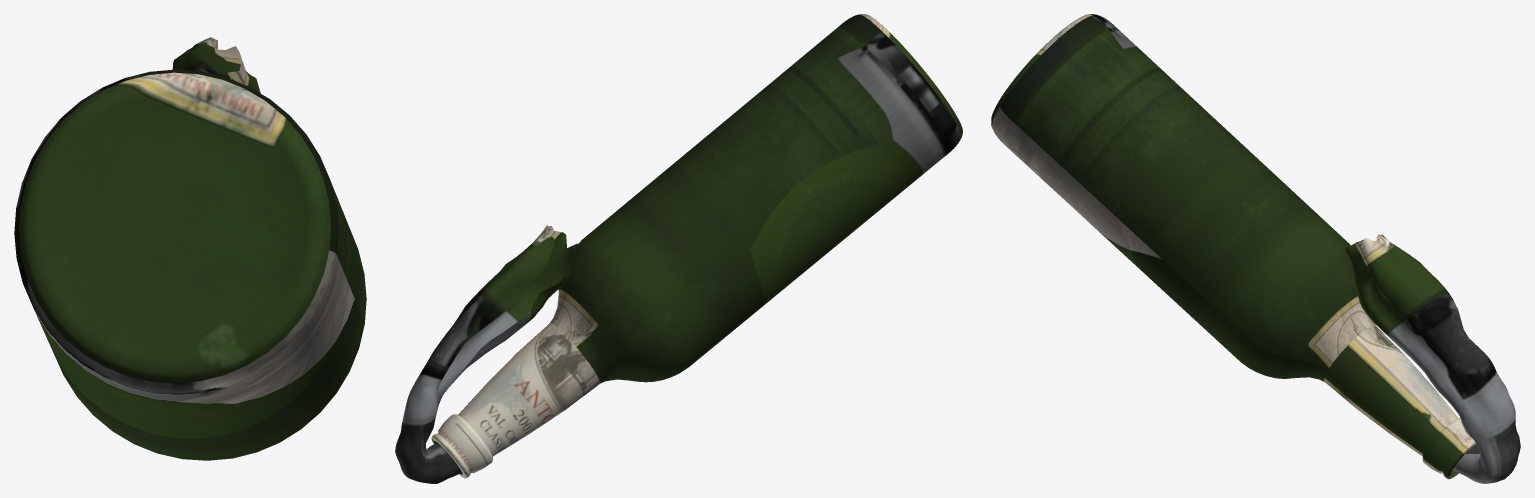
Rendered from w_molotov.glb.
3 views of the same model, side by side, from view 1: azimuth 30°, elevation 25°; view 2: azimuth 150°, elevation 25°; view 3: azimuth 270°, elevation 25° (orthographic). The views are drawn at different scales.
Parts seen in each view (by area): view 1: w_molotov; view 2: w_molotov; view 3: w_molotov.
Part boxes in pixels (x1=…): w_molotov: x1=14, y1=37, x2=366, y2=460; w_molotov: x1=395, y1=14, x2=962, y2=483; w_molotov: x1=991, y1=14, x2=1520, y2=483.
Bounding box in the file's own units: 0.257 × 0.2646 × 0.3602.
5 materials, 5 textured.
